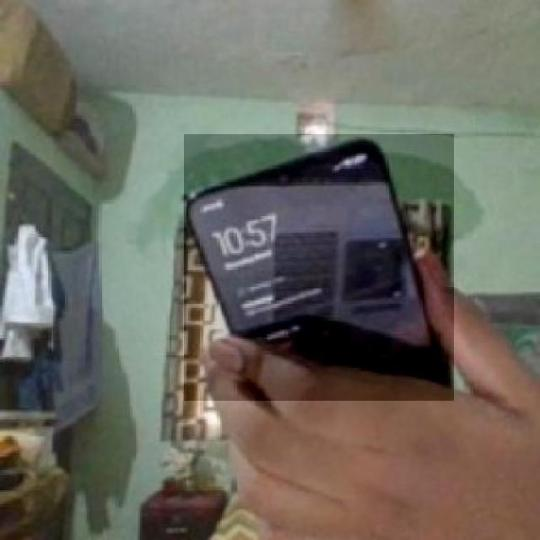phone: (124, 124, 463, 414)
